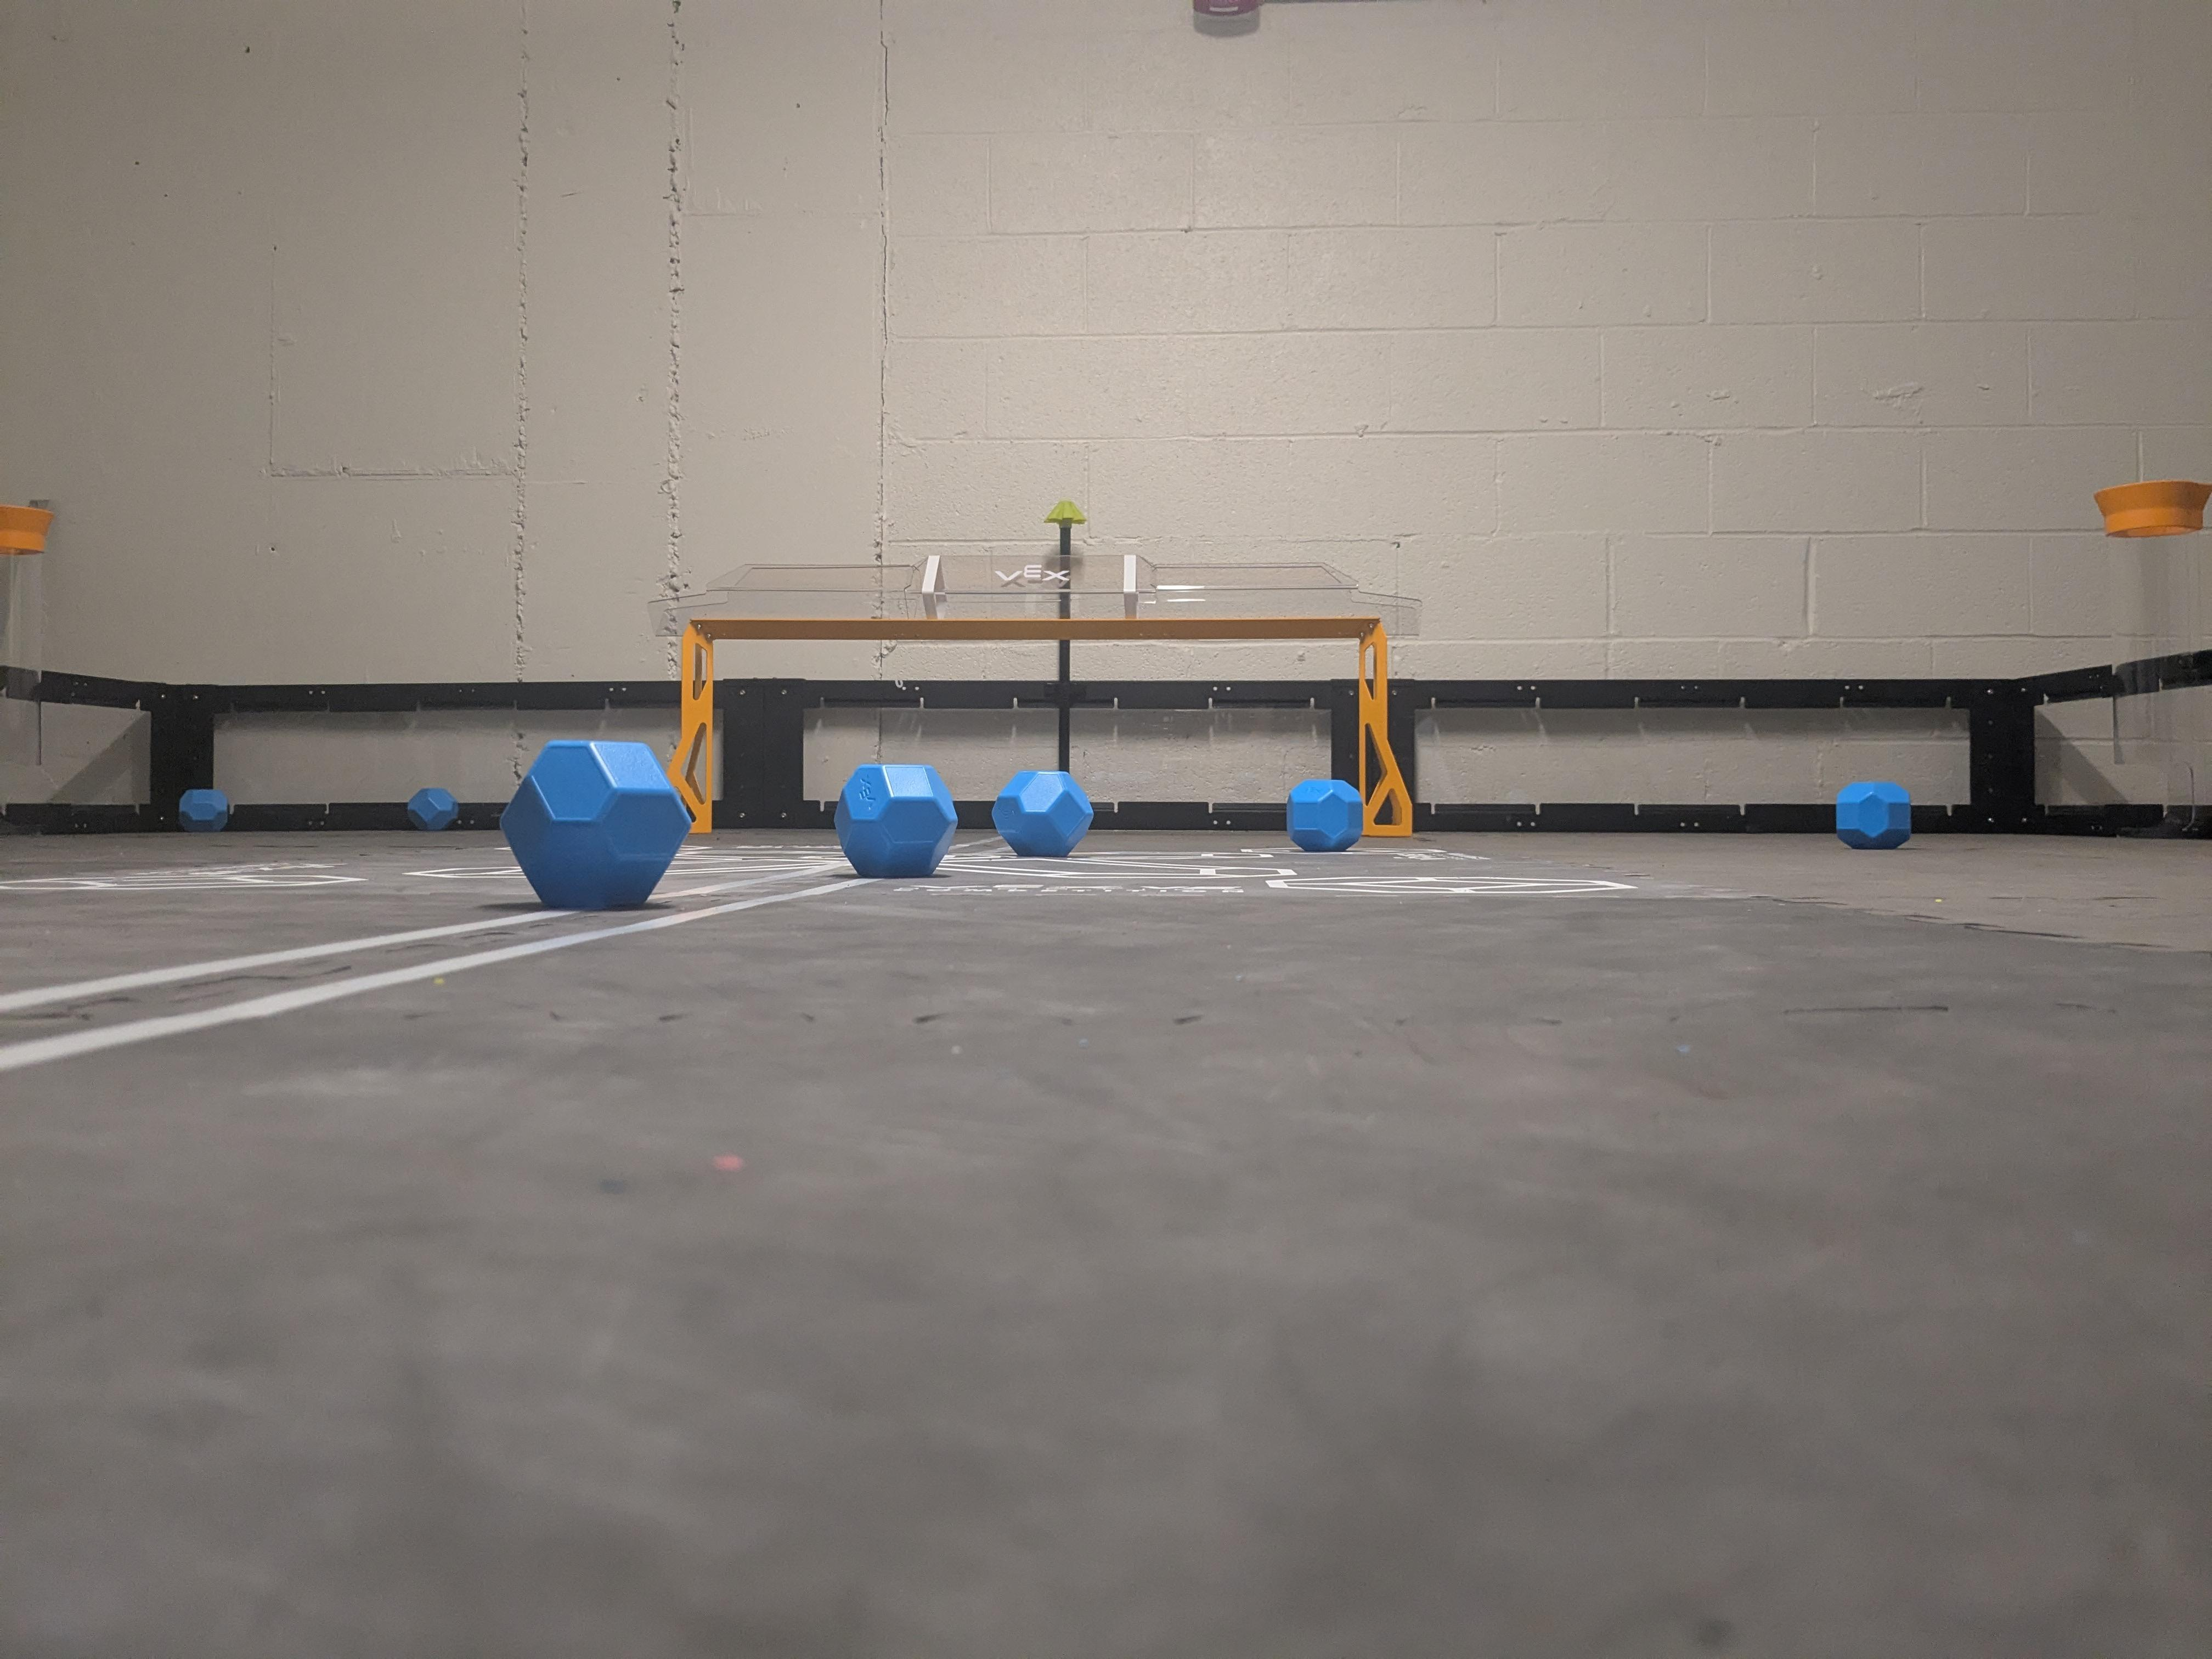Vex-Pieces-BLUE: (502, 741, 691, 910), (836, 762, 953, 877), (995, 772, 1087, 854), (1285, 781, 1364, 847), (1831, 782, 1907, 847), (178, 788, 230, 833), (406, 788, 458, 831)
